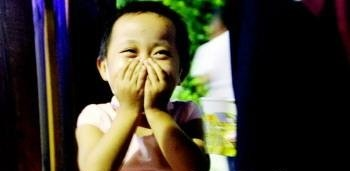face: (109, 14, 175, 99)
